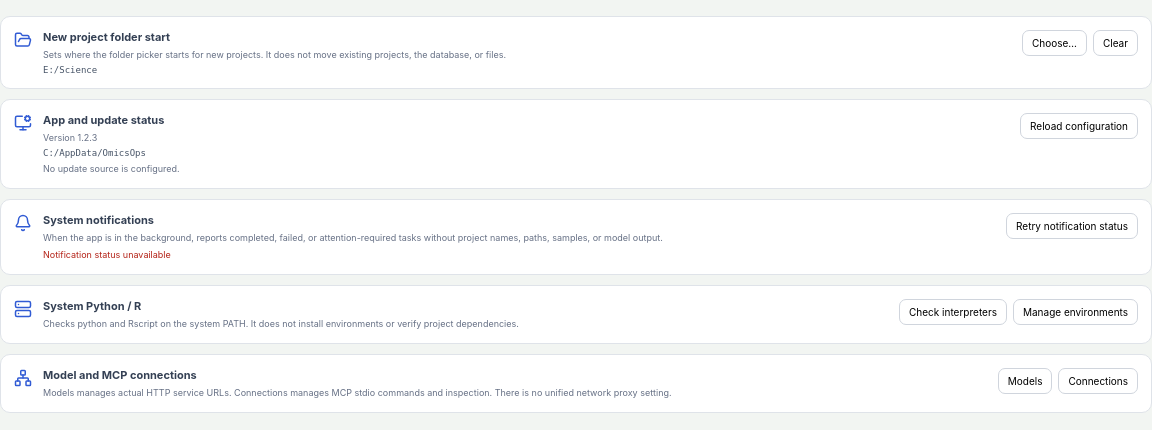
Test: GeneralAdvancedSettings › keeps general settings usable when notification status cannot be read
Expected: the text "Version 1.2.3" is shown, [43,132,97,143]
Expected: the text "Notification status unavailable" is shown, [43,249,171,260]
Step 1. Click the button "Retry notification status" → point(1072, 226), box [1006,213,1138,239]
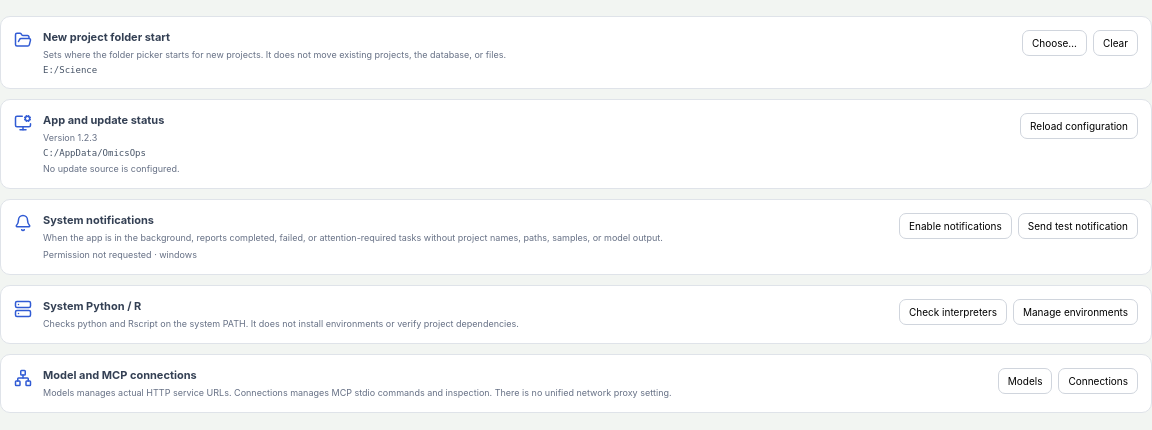
Now the text "Permission not requested · windows" is shown, box [43,249,197,260]
